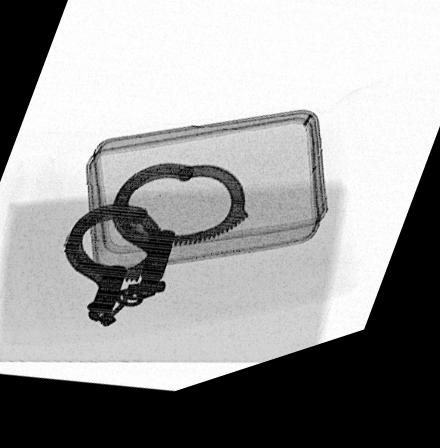HandCuffs: (61, 173, 250, 335)
